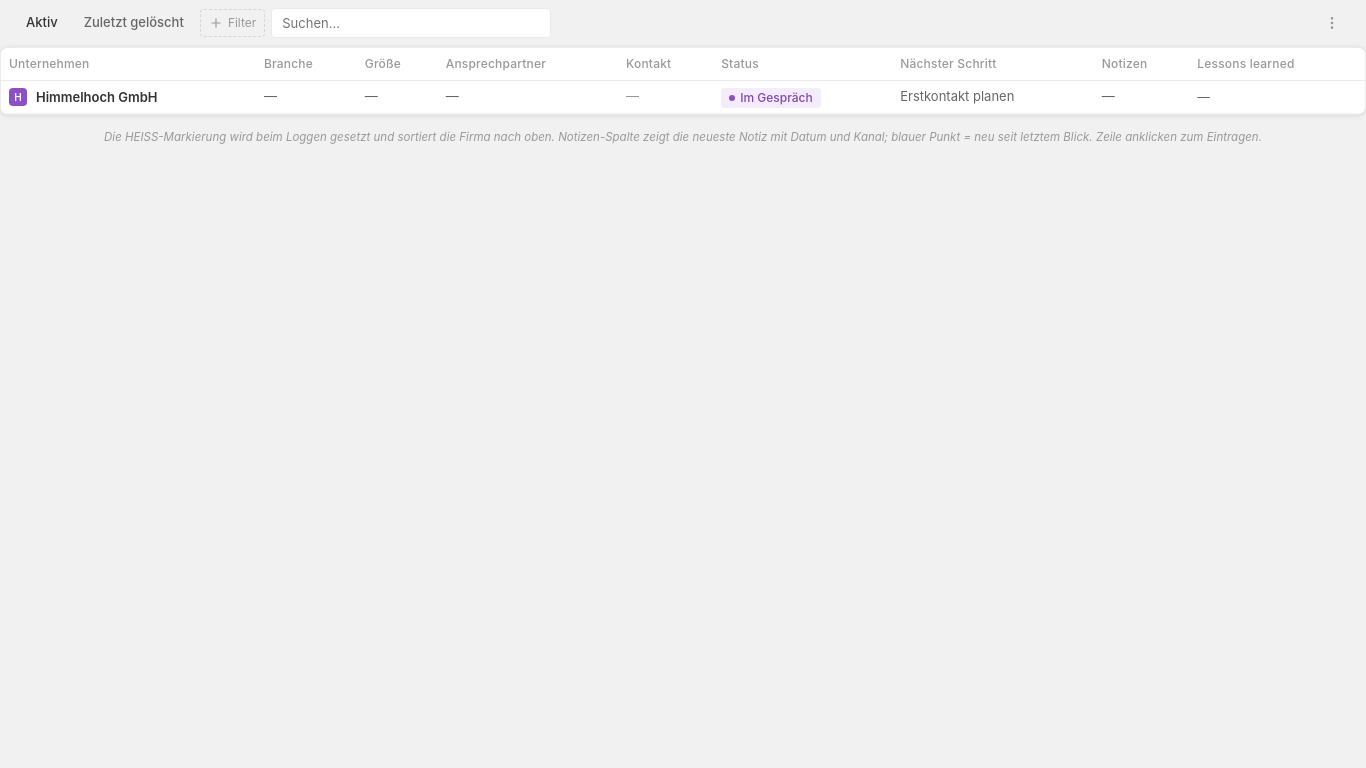
it: CompanyTable › clicking a row reveals an inline detail region and a second click hides it (DB-06)
This screenshot has width=1366, height=768.
Check: the text "Verlauf (Notizen)" is not shown
Click the element with class "tag". click: (771, 98)
box: [721,88,821,108]
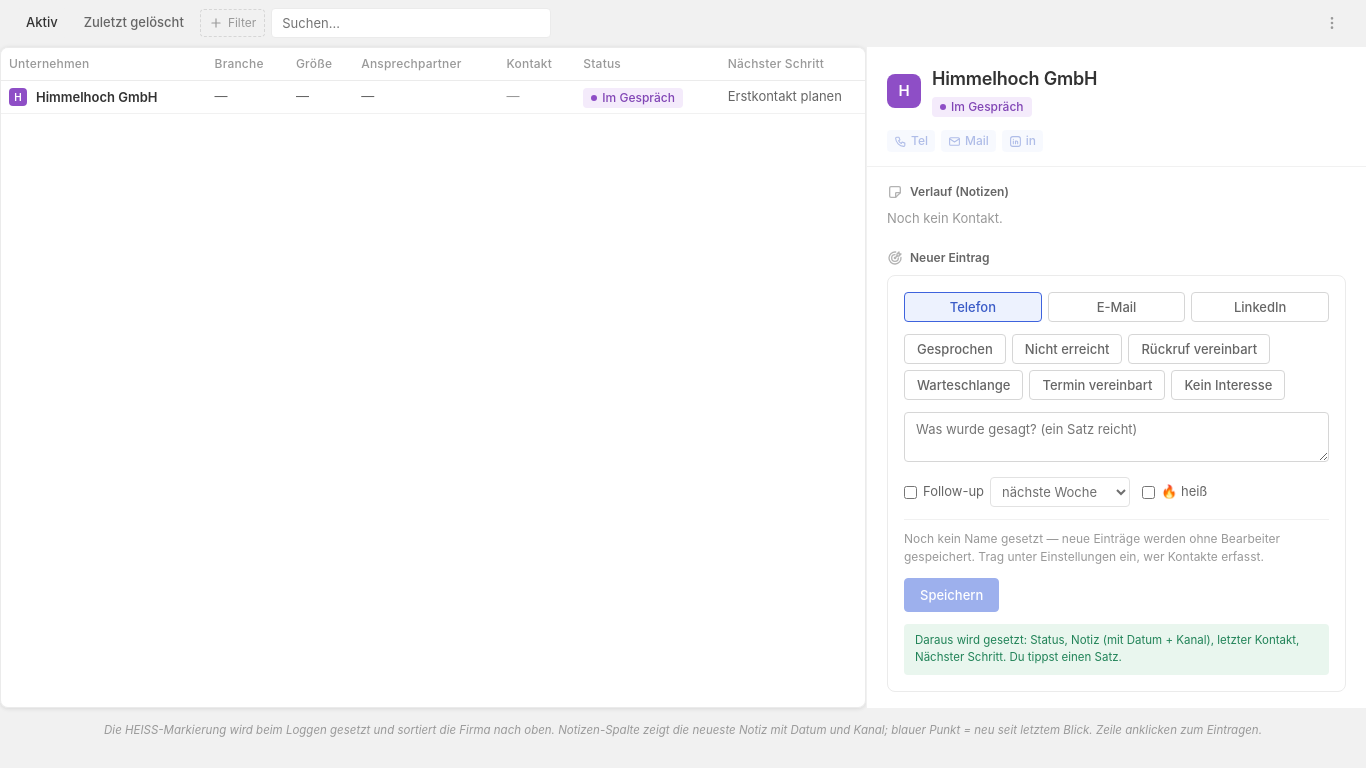
Check: the heading "Verlauf (Notizen)" is shown, box [887,184,1009,200]
Click the element with class "tag" showing "Im Gespräch". click: (633, 98)
box: [583,88,683,108]
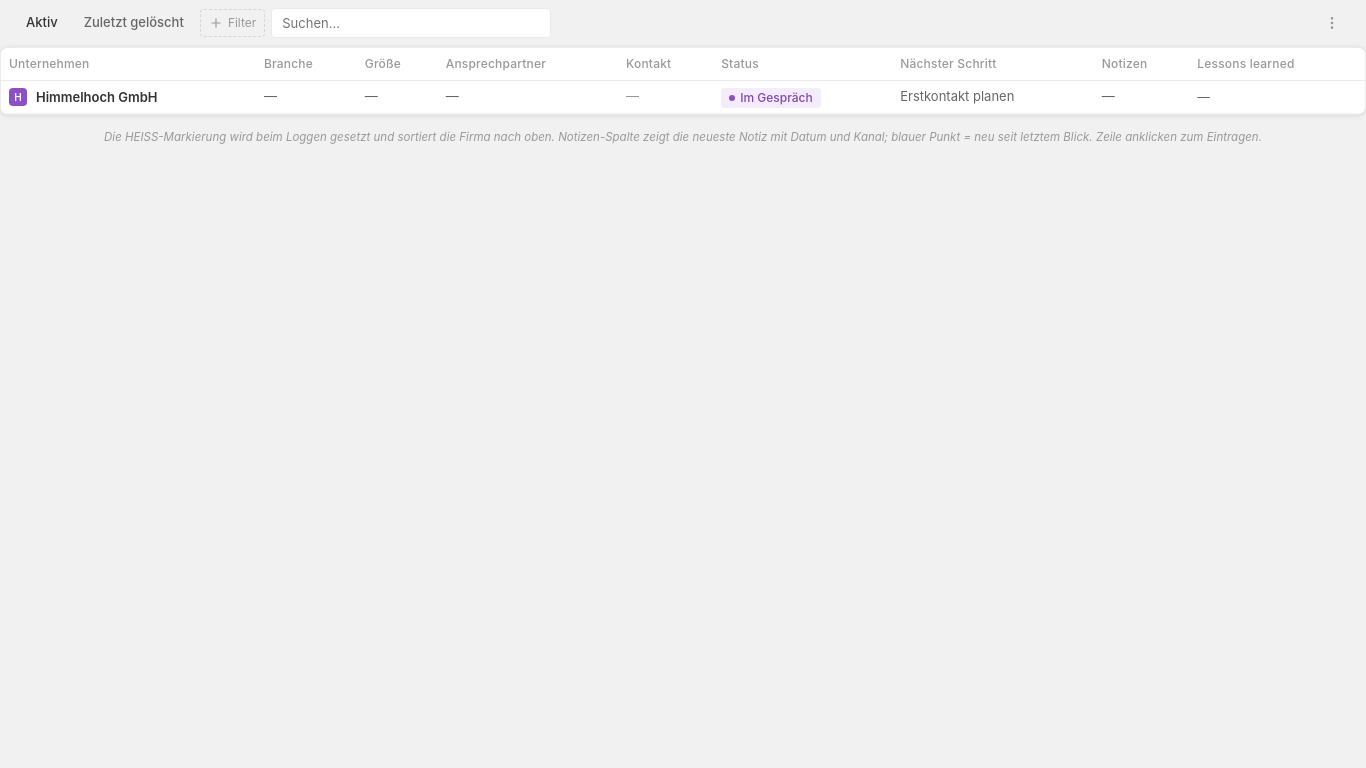
Check: the heading "Verlauf (Notizen)" is gone
